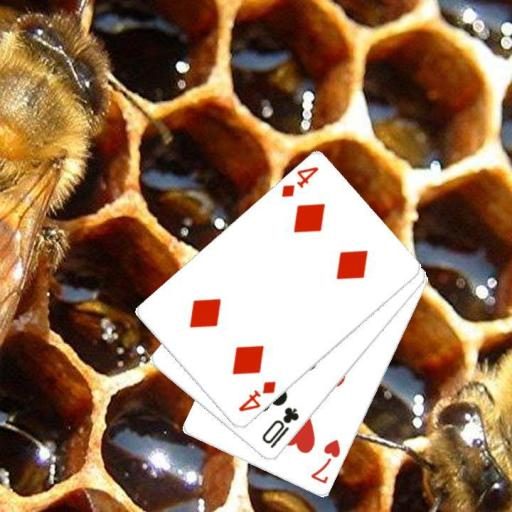10C: (258, 404, 301, 450)
4D: (277, 163, 320, 200), (235, 378, 277, 414)
7H: (307, 436, 342, 486)
